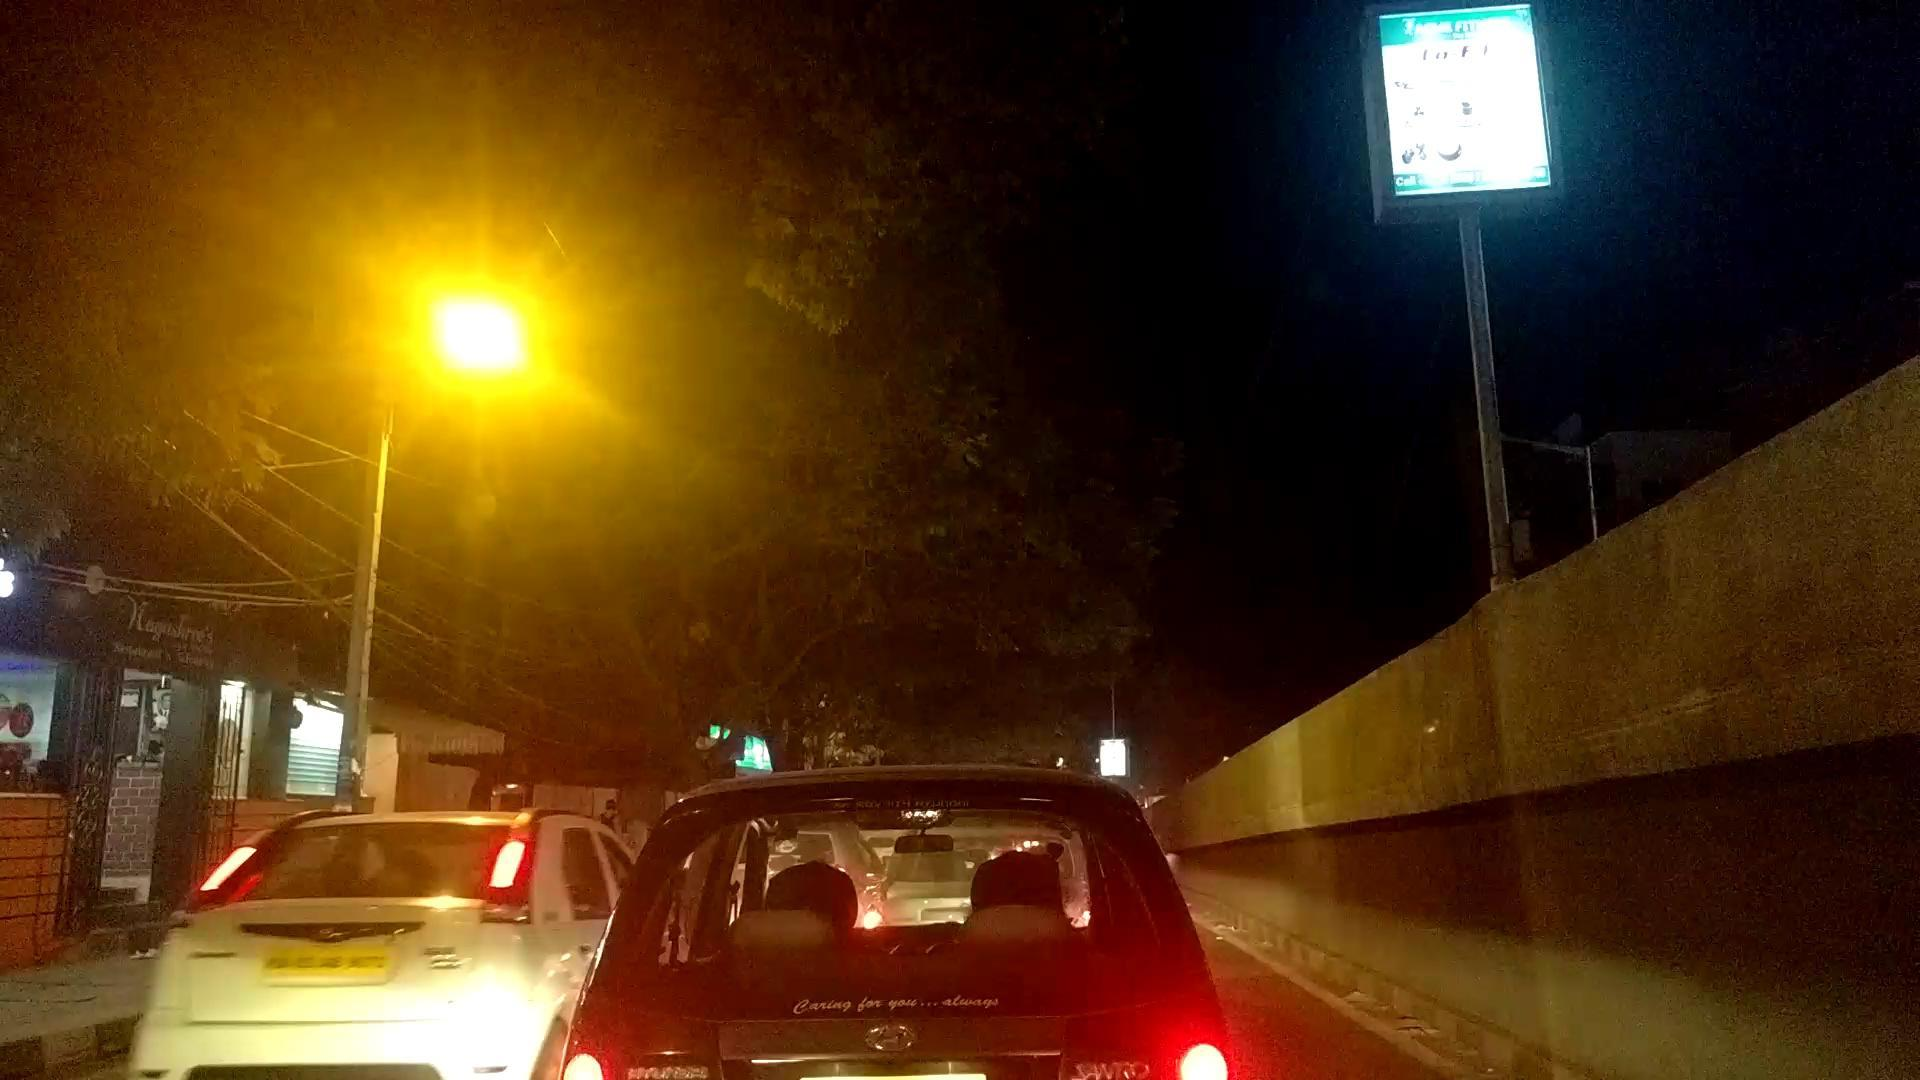on: (150, 22, 823, 531)
